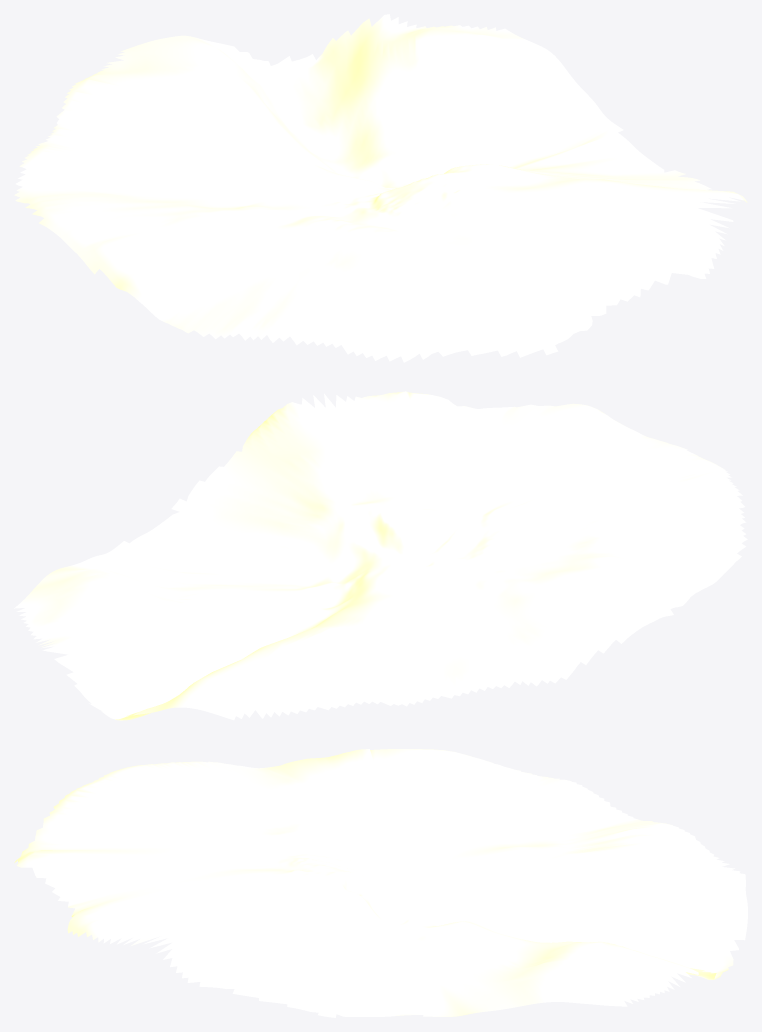
File: TownGround.glb
3 renders of one model, top to bottom at view 1: azimuth 30°, elevation 25°; view 2: azimuth 150°, elevation 25°; view 3: azimuth 270°, elevation 25°, orthographic. The views are drawn at different scales.
Visible parts, largest first — view 1: Plane.001; view 2: Plane.001; view 3: Plane.001.
Part boxes in pixels (x1,y1,x2,y2): Plane.001: (14, 14, 747, 362); Plane.001: (14, 391, 747, 720); Plane.001: (14, 749, 747, 1017).
Size of the model in its own units: 1880 by 278 by 2447.
